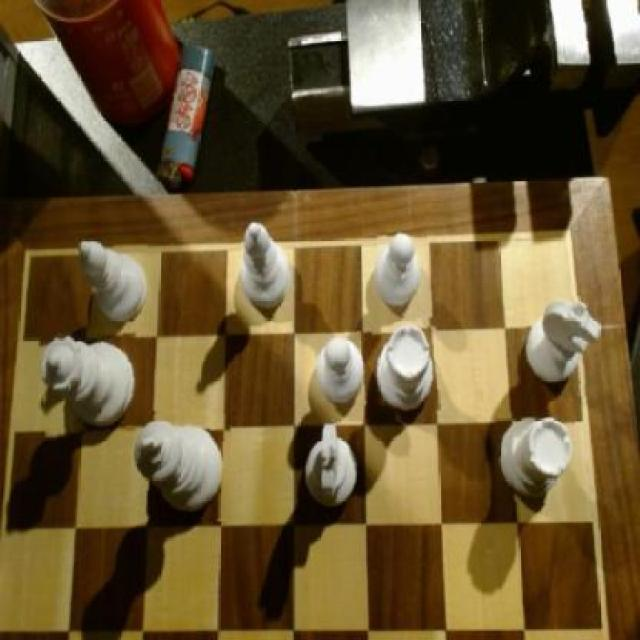black-rook: (80, 236, 151, 332), (239, 217, 293, 316)
white-bishop: (134, 411, 231, 520)
white-king: (524, 296, 600, 396), (306, 420, 364, 512)
white-knight: (374, 232, 427, 317), (317, 334, 368, 411)
white-pawn: (42, 323, 142, 436)
white-queen: (494, 414, 573, 504), (374, 320, 441, 417)
